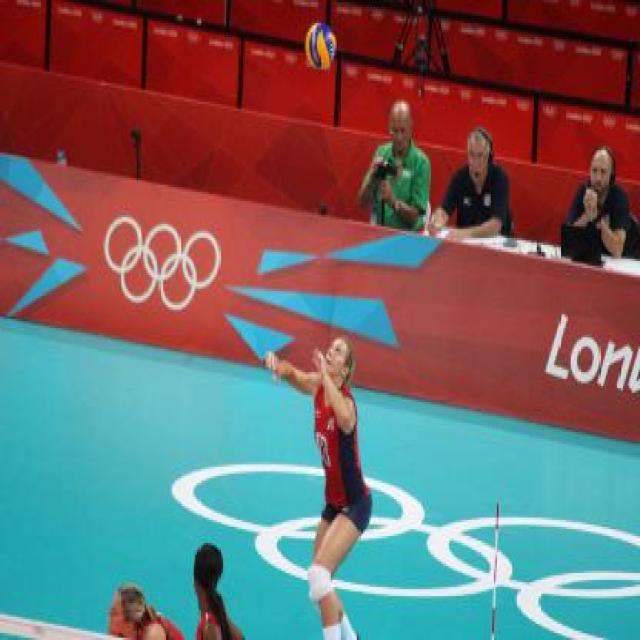Volleyball: (304, 21, 338, 67)
